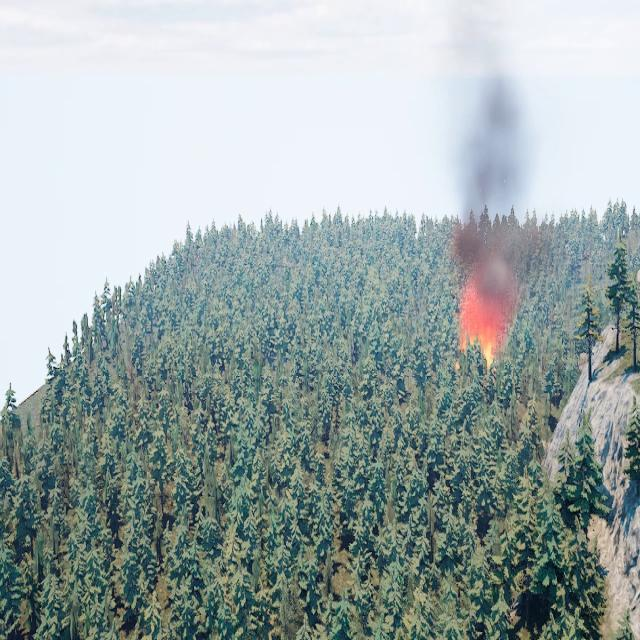fire: (459, 303, 499, 372)
smoke: (449, 9, 548, 343)
